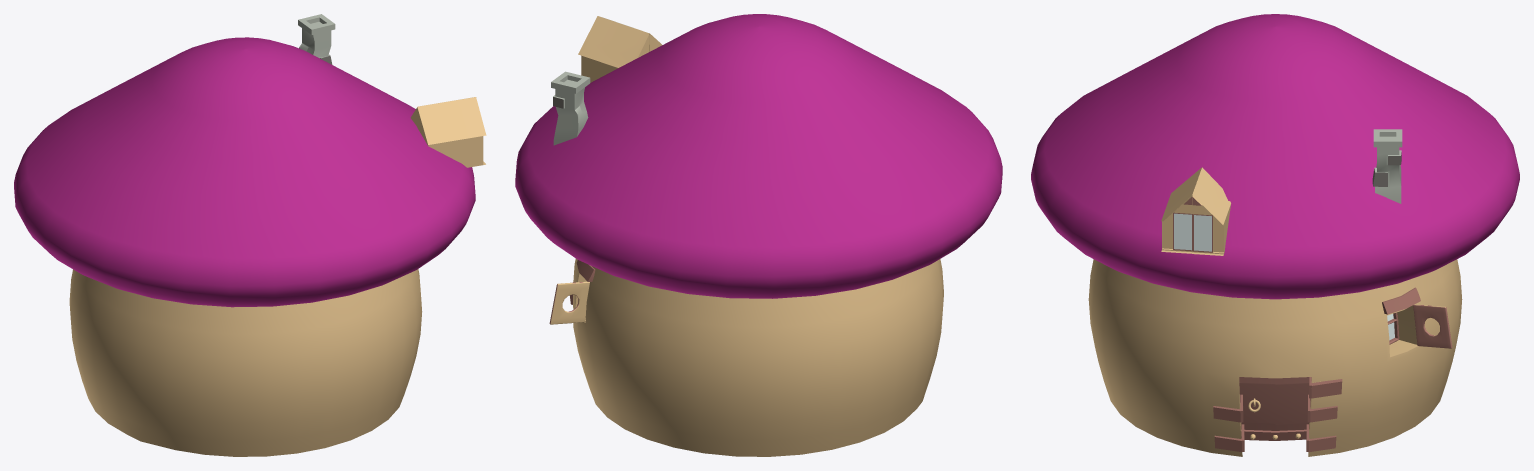
Rendered from hut2.fbx.
3 views of the same model, side by side, from view 1: azimuth 30°, elevation 25°; view 2: azimuth 150°, elevation 25°; view 3: azimuth 270°, elevation 25° (orthographic). The views are drawn at different scales.
Parts seen in each view (by area): view 1: Cylinder, Cylinder.004, Cube; view 2: Cylinder, Cylinder.004, Cube, Cylinder.002; view 3: Cylinder, Cylinder.004, Cube, Cylinder.002, Cylinder.006, Cylinder.005, Cylinder.001.
Part boxes in pixels (<box>): Cylinder: <box>14,37,475,456</box>; Cylinder.004: <box>410,97,486,167</box>; Cube: <box>298,14,335,58</box>; Cylinder: <box>515,14,1002,456</box>; Cylinder.004: <box>578,16,662,82</box>; Cube: <box>551,71,590,145</box>; Cylinder.002: <box>549,281,589,324</box>; Cylinder: <box>1031,14,1519,456</box>; Cylinder.004: <box>1161,167,1231,255</box>; Cube: <box>1373,129,1402,203</box>; Cylinder.002: <box>1413,304,1452,348</box>; Cylinder.006: <box>1213,394,1337,422</box>; Cylinder.005: <box>1214,424,1336,452</box>; Cylinder.001: <box>1382,287,1420,314</box>.
Bounding box in the file's own units: 313 × 255 × 313.
